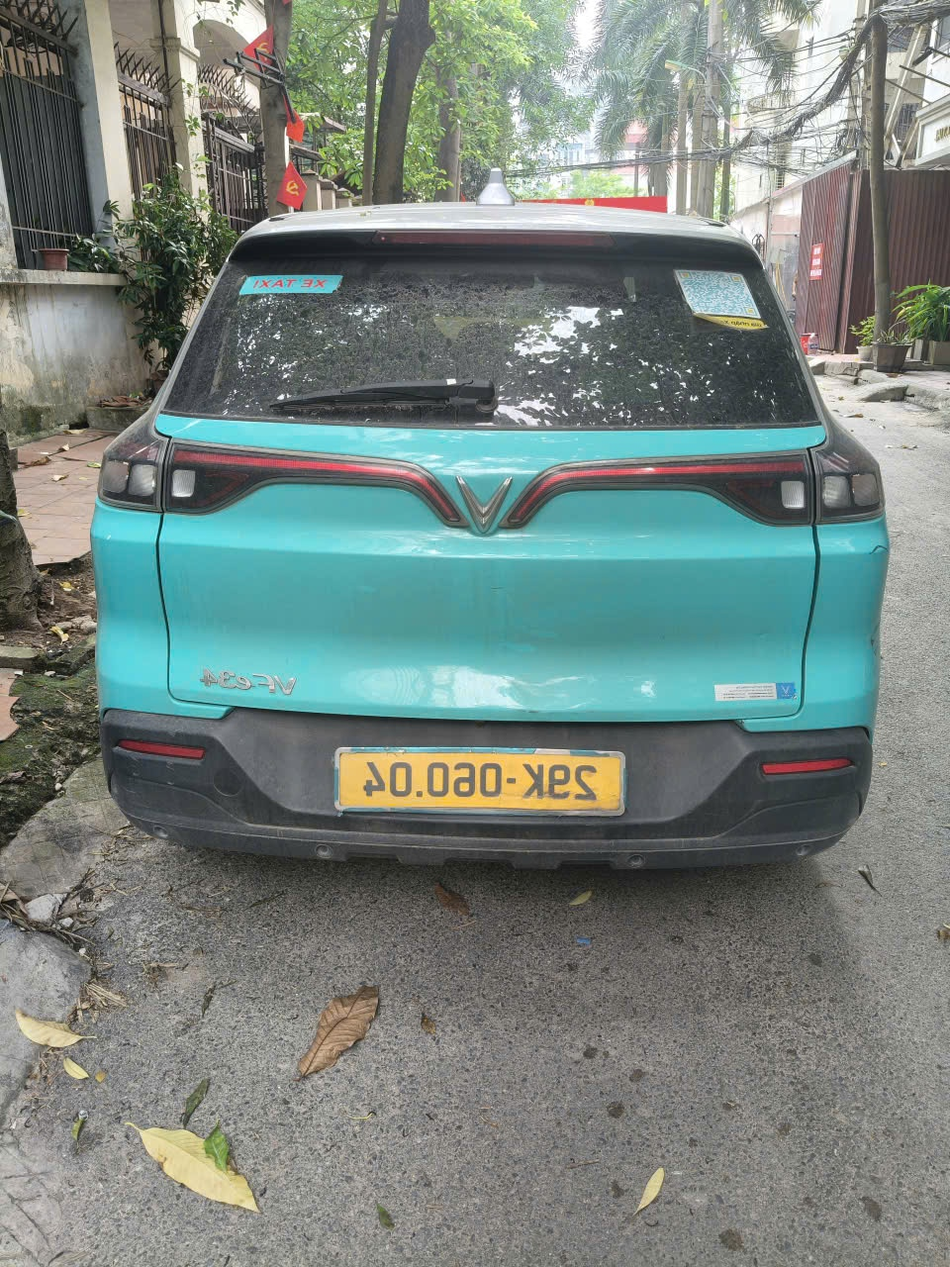plate: (193, 667, 304, 699)
